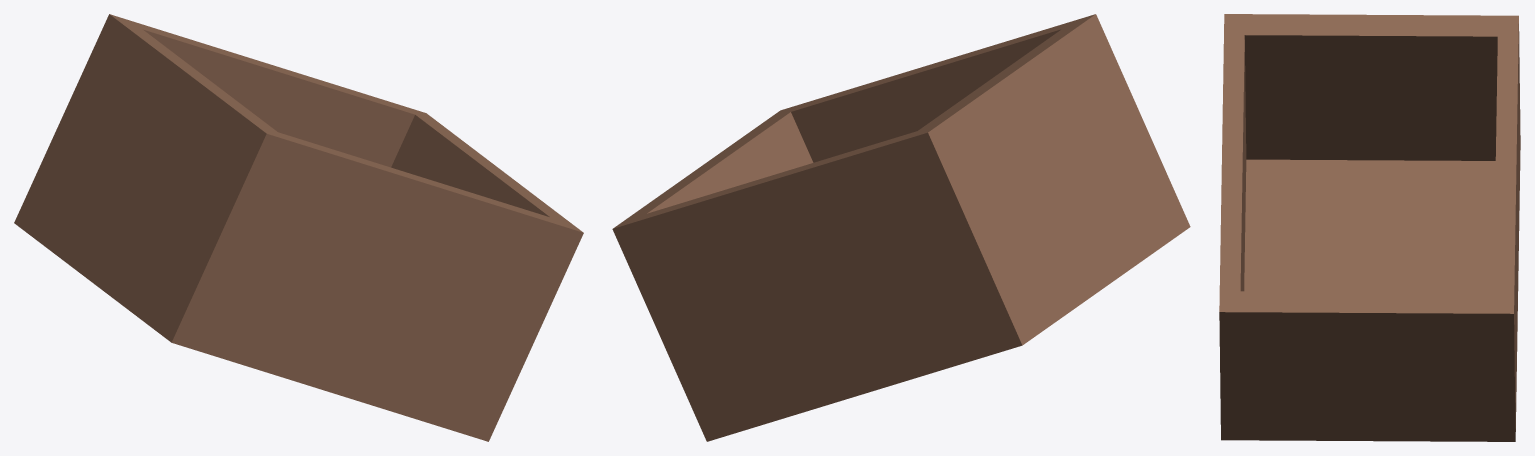
The model's file is EmptyBox.fbx.
3 renders of one model, left to right at view 1: azimuth 30°, elevation 25°; view 2: azimuth 150°, elevation 25°; view 3: azimuth 270°, elevation 25°, orthographic. The views are drawn at different scales.
Parts seen in each view (by area): view 1: Cube.010; view 2: Cube.010; view 3: Cube.010.
Boxes of the visible parts, x1,y1,x2,y2 form: Cube.010: (14, 14, 583, 441); Cube.010: (612, 14, 1190, 441); Cube.010: (1219, 14, 1520, 441).
Bounding box in the file's own units: 134 × 112 × 92.89.
